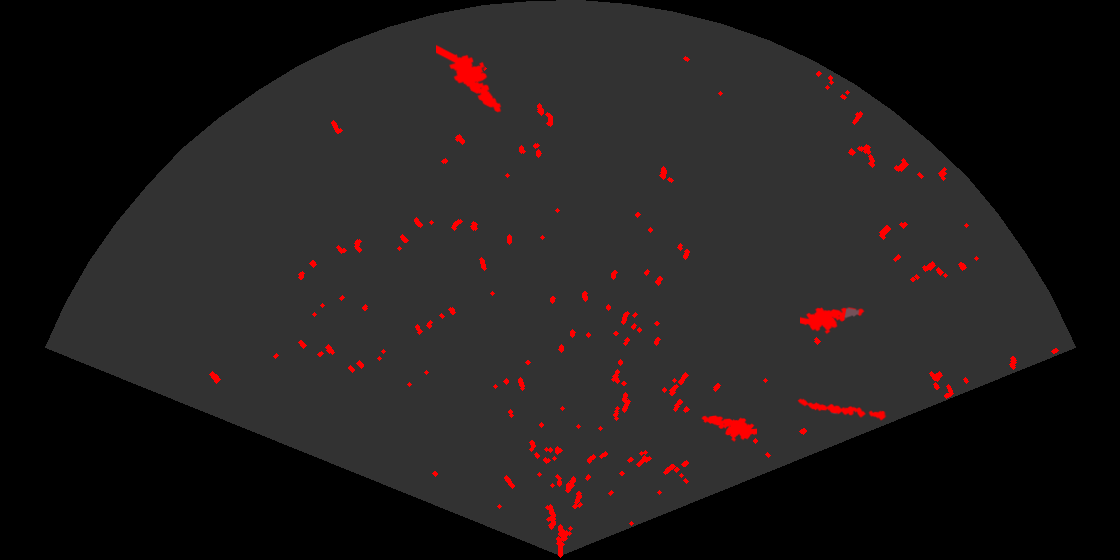chain: (796, 397, 887, 422)
frogman: (436, 43, 503, 114), (800, 305, 865, 336), (699, 414, 757, 444)
